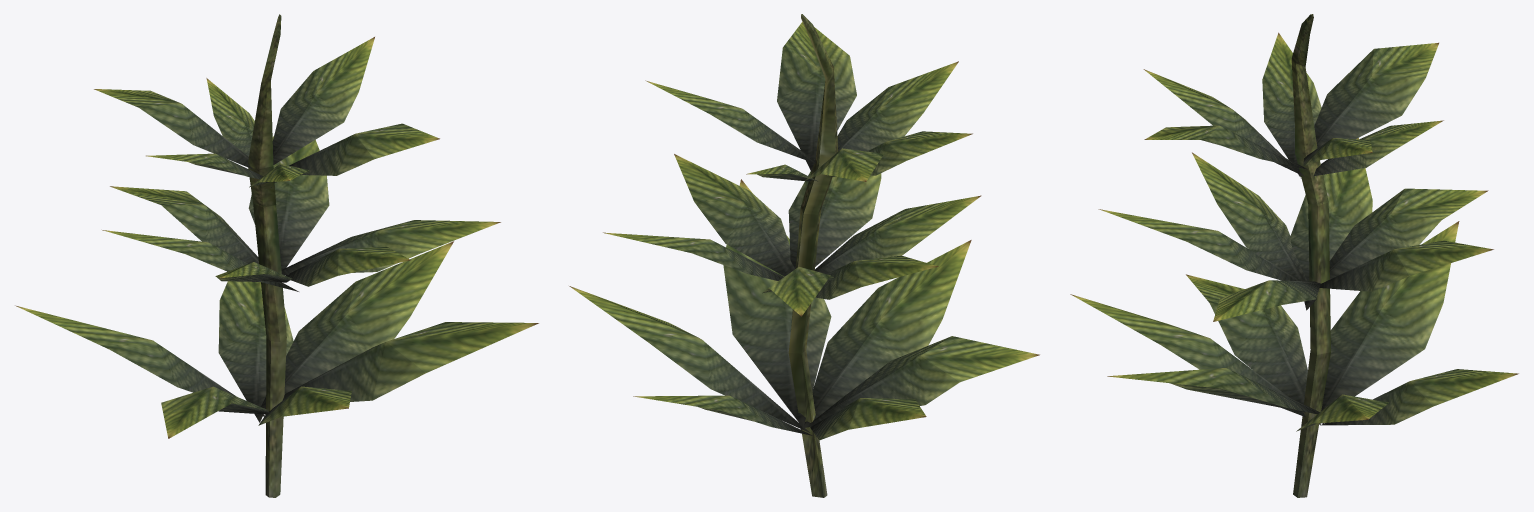
Rendered from SM_EN_2003_Fern04.FBX.
3 views of the same model, side by side, from view 1: azimuth 30°, elevation 25°; view 2: azimuth 150°, elevation 25°; view 3: azimuth 270°, elevation 25° (orthographic). The views are drawn at different scales.
Parts seen in each view (by area): view 1: SM_EN_2003_Fern04; view 2: SM_EN_2003_Fern04; view 3: SM_EN_2003_Fern04.
Part boxes in pixels (left/top/right/bottom): SM_EN_2003_Fern04: left=15, top=14, right=538, bottom=497; SM_EN_2003_Fern04: left=569, top=14, right=1039, bottom=497; SM_EN_2003_Fern04: left=1070, top=14, right=1518, bottom=497.
Size of the model in its own units: 48.16 by 55.01 by 46.08.
